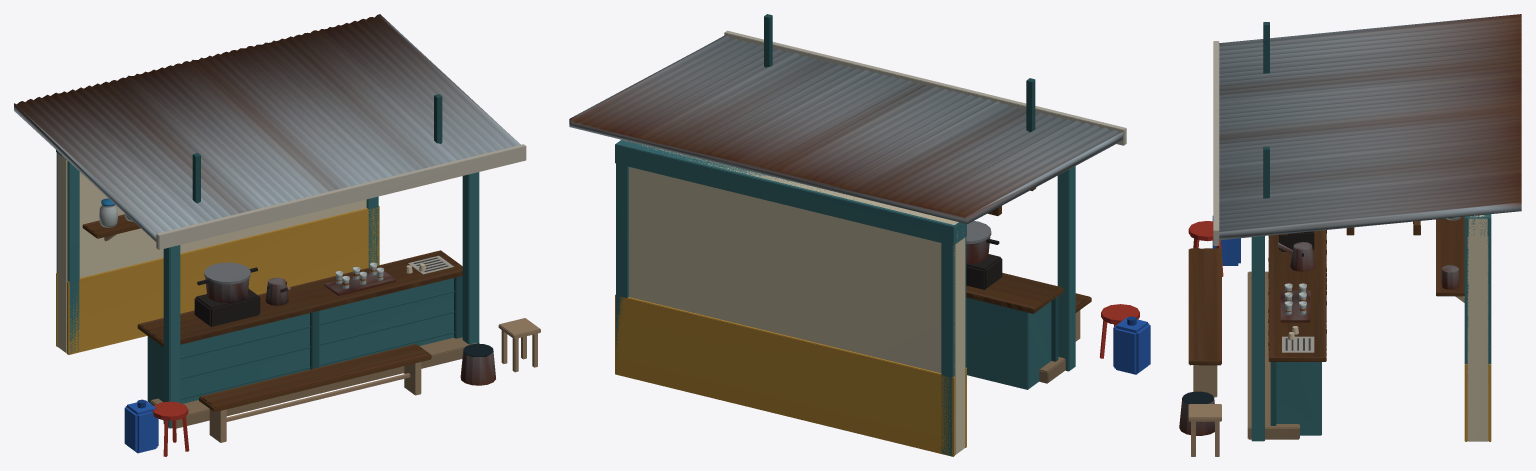
The model's file is tea_stall.glb.
The picture shows the model from 3 angles, left to right: view 1: azimuth 30°, elevation 25°; view 2: azimuth 150°, elevation 25°; view 3: azimuth 270°, elevation 25°; orthographic projection. The views are drawn at different scales.
Parts seen in each view (by area): view 1: hb_main, hb_tin, hb_props; view 2: hb_main, hb_tin, hb_props; view 3: hb_tin, hb_main, hb_props.
Boxes of the visible parts, <box> form: hb_main: <box>56,94,526,456</box>; hb_tin: <box>14,14,520,385</box>; hb_props: <box>82,214,540,442</box>; hb_main: <box>615,14,1150,456</box>; hb_tin: <box>569,35,1122,263</box>; hb_props: <box>966,187,1091,341</box>; hb_tin: <box>1179,14,1521,435</box>; hb_main: <box>1182,22,1491,441</box>; hb_props: <box>1188,216,1464,456</box>.
Size of the model in its own units: 5.05 by 3.2 by 3.6.
